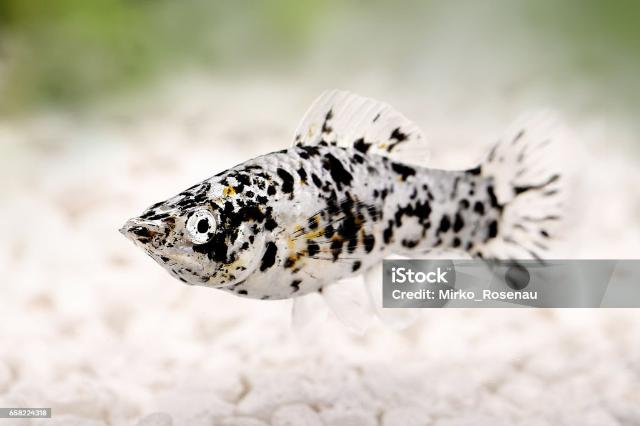Mulut: (98, 194, 194, 273)
Sirip Dada: (272, 192, 392, 282)
Sirip Ekor: (452, 97, 584, 325)
Sirip Punggung: (287, 81, 431, 173)
